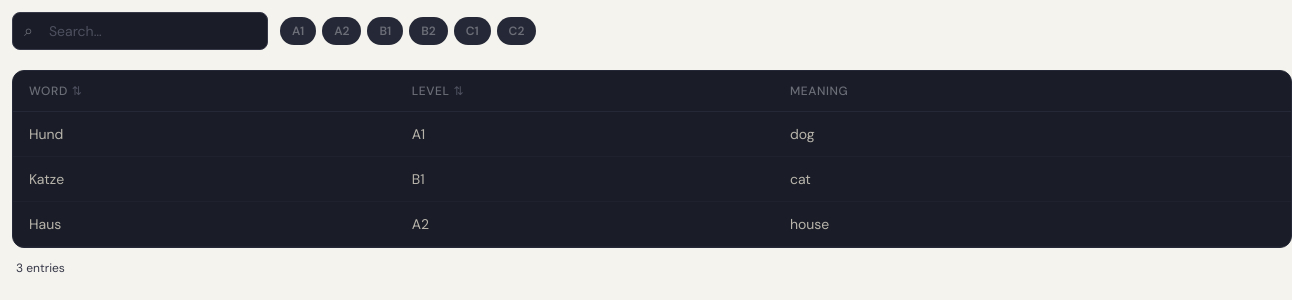
Test: DataTable › clicking an editable cell shows input with current value
Note: Click the 'Hund' cell (editable Word column)
What coordinates should you click on to do the following:
click the text "Hund"
I would click on:
 (46, 134)
Its box is [13,112,396,156].
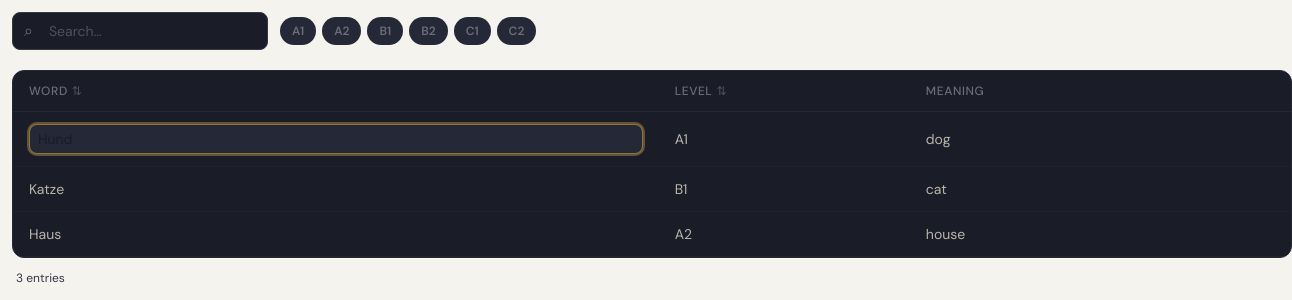
Check: the field showing "Hund" is shown, box [29,124,643,154]
